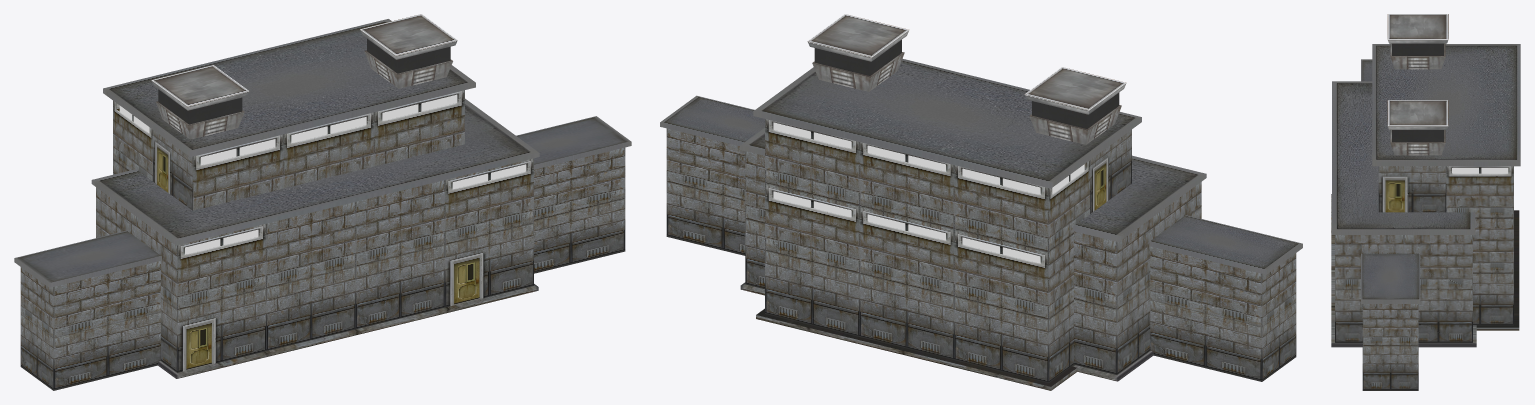
File: s_admin_core_hdtex.glb
The picture shows the model from 3 angles, left to right: view 1: azimuth 30°, elevation 25°; view 2: azimuth 150°, elevation 25°; view 3: azimuth 270°, elevation 25°; orthographic projection. The views are drawn at different scales.
Parts seen in each view (by area): view 1: S_admin_Core, Litwin_S_admin_core; view 2: S_admin_Core, Litwin_S_admin_core; view 3: S_admin_Core, Litwin_S_admin_core.
Part boxes in pixels (x1=…): S_admin_Core: x1=14, y1=14, x2=631, y2=390; Litwin_S_admin_core: x1=119, y1=94, x2=526, y2=254; S_admin_Core: x1=660, y1=14, x2=1302, y2=390; Litwin_S_admin_core: x1=773, y1=122, x2=1084, y2=263; S_admin_Core: x1=1331, y1=14, x2=1520, y2=390; Litwin_S_admin_core: x1=1452, y1=167, x2=1508, y2=173.
Size of the model in its own units: 57.41 by 22.41 by 19.08.
6 materials, 6 textured.
